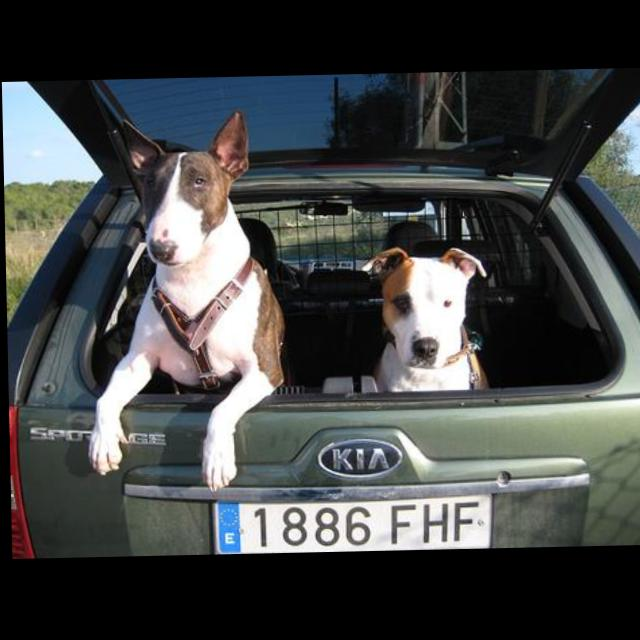amstaff: (359, 246, 488, 396)
bullterrier: (80, 109, 288, 495)
